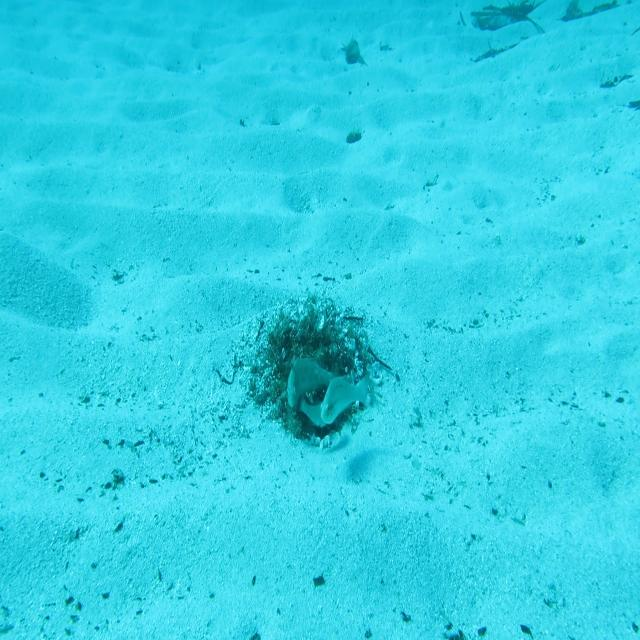DAN_CIRC: (284, 353, 340, 410)
female: (318, 366, 373, 426)
nest: (251, 285, 393, 444)
other_fish: (295, 392, 331, 429)
